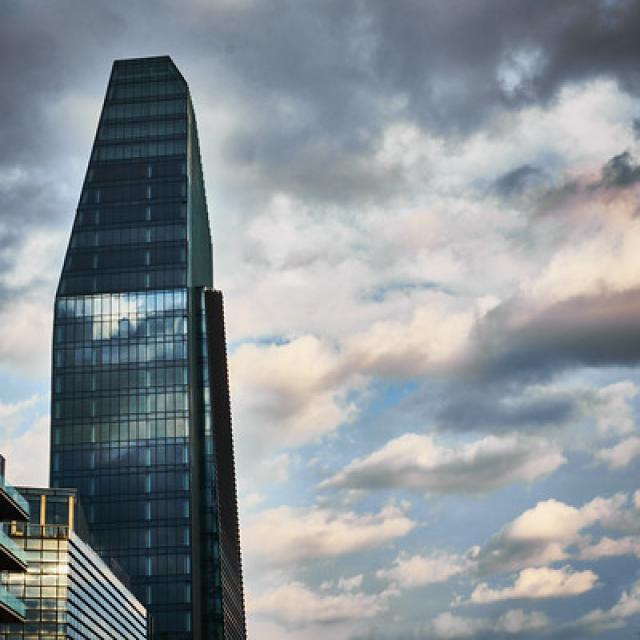Normal_building: (40, 54, 254, 639)
